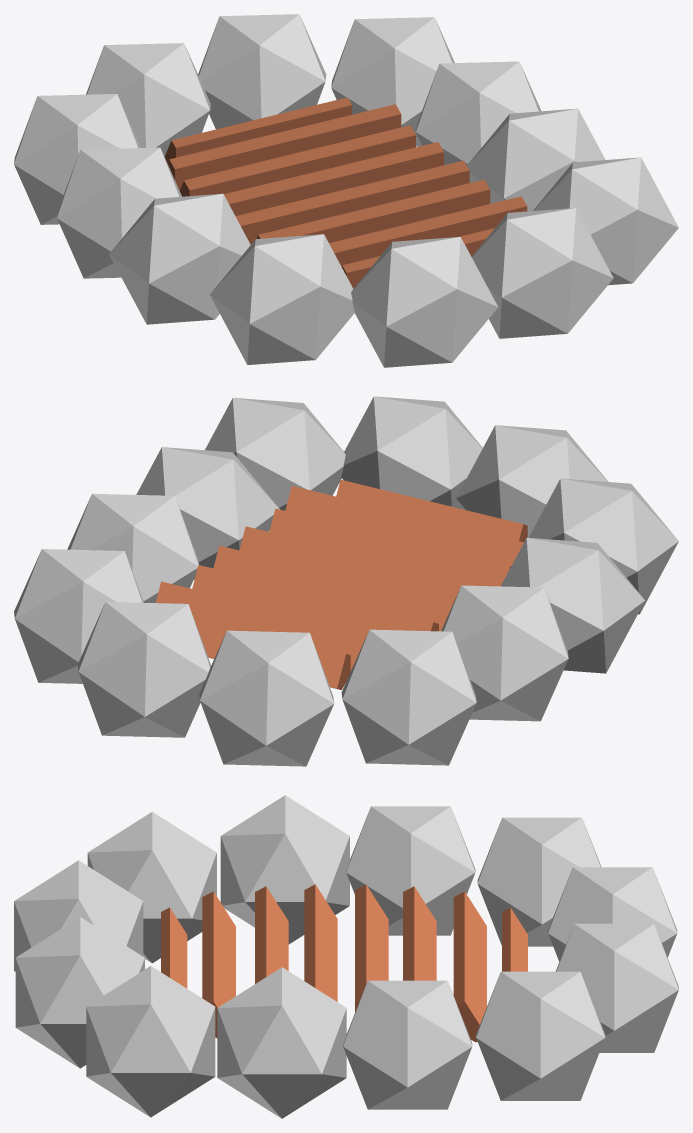
Rendered from campfire_complete.fbx.
3 views of the same model, one above another, from view 1: azimuth 30°, elevation 25°; view 2: azimuth 150°, elevation 25°; view 3: azimuth 270°, elevation 25° (orthographic). The views are drawn at different scales.
Parts seen in each view (by area): view 1: campfire_complete_rocks, campfire_complete_woods; view 2: campfire_complete_rocks, campfire_complete_woods; view 3: campfire_complete_rocks, campfire_complete_woods.
Boxes of the visible parts, x1,y1,x2,y2 form: campfire_complete_rocks: (14, 14, 678, 367); campfire_complete_woods: (164, 97, 527, 288); campfire_complete_rocks: (14, 396, 678, 766); campfire_complete_woods: (155, 479, 527, 689); campfire_complete_rocks: (14, 795, 678, 1118); campfire_complete_woods: (161, 884, 527, 1042).
Size of the model in its own units: 207 by 49.49 by 245.
